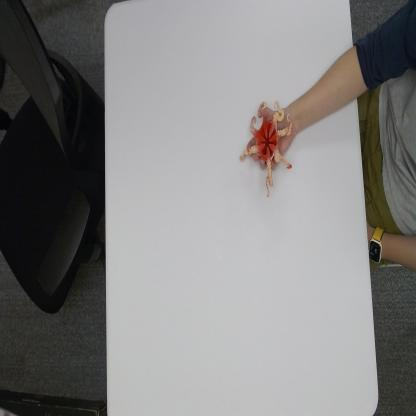Arm: (294, 30, 364, 136)
Octopus: (238, 98, 295, 200)
